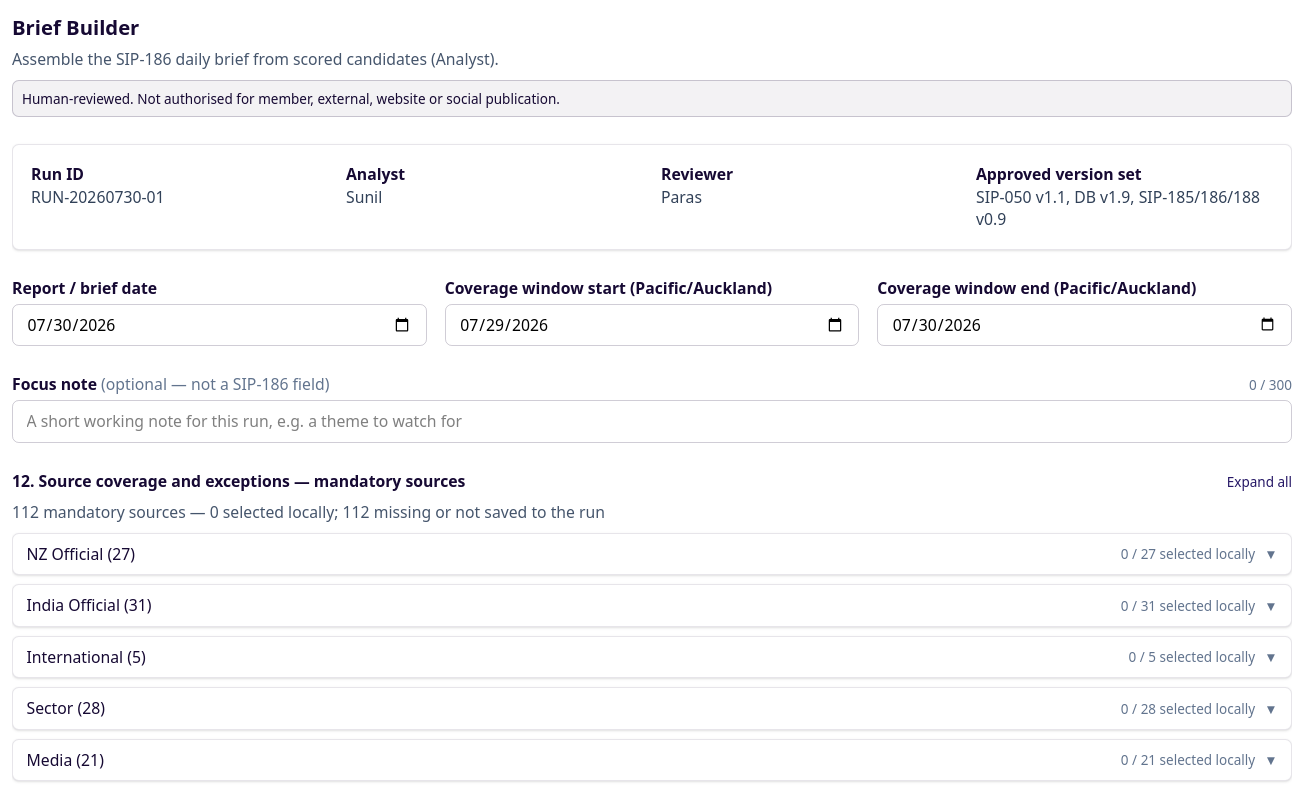
Test case: BriefBuilderScreen › expands a single category to reveal only that group's source rows
Click the button "NZ Official (27) 0 / 27 selected locally ▼" at (65, 554), box 13,534 -> 1291,574
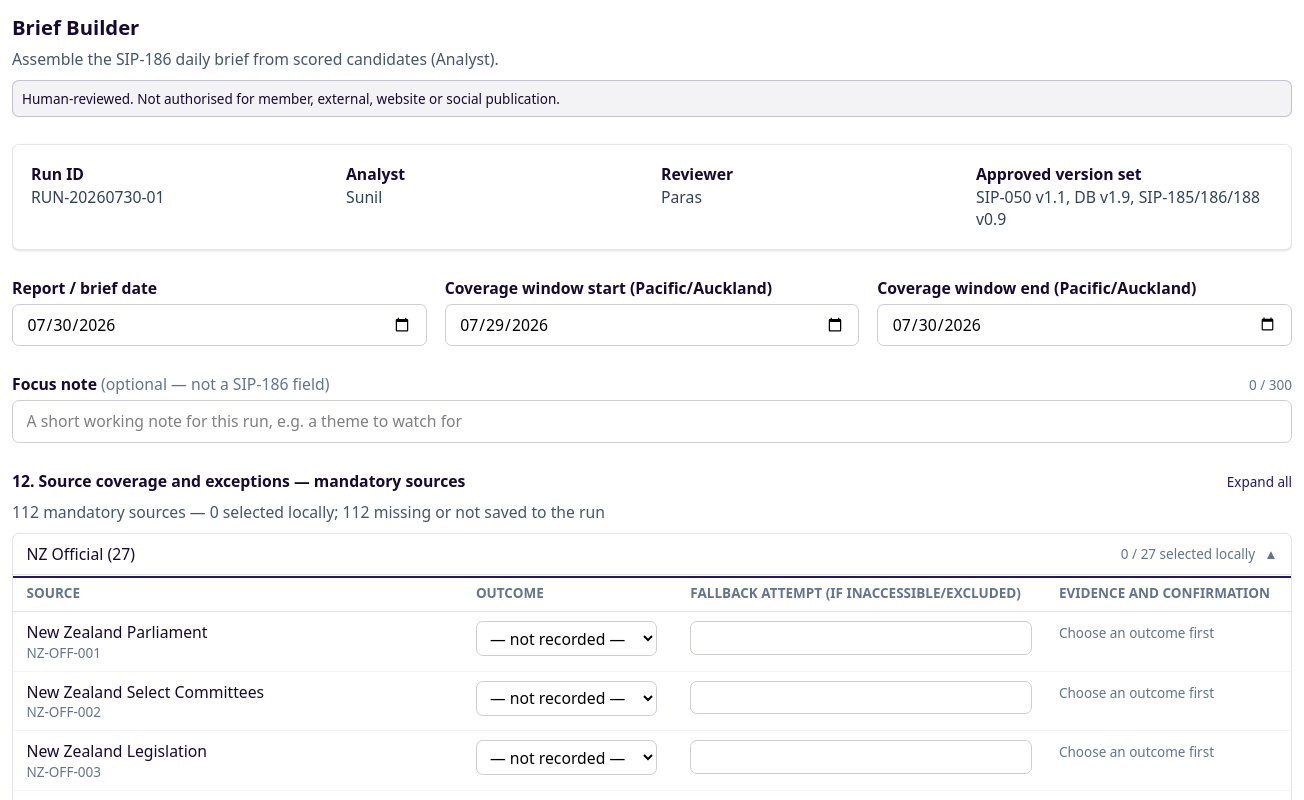
Expected: the button "NZ Official (27) 0 / 27 selected locally ▲" is expanded, 13,534 -> 1291,574
Expected: the text "New Zealand Parliament" is shown, 26,622 -> 208,644
